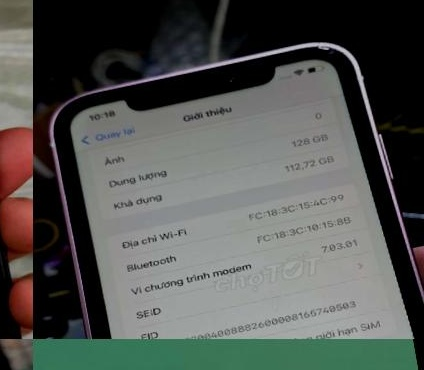scratch: (310, 32, 353, 70)
